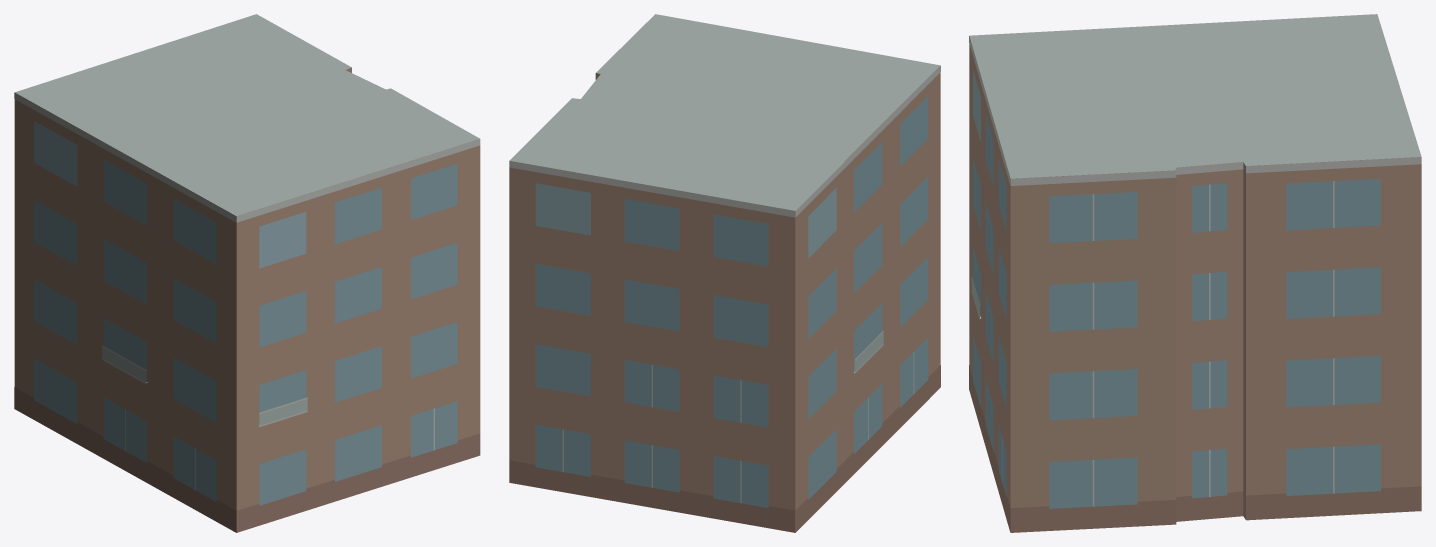
File: survey-upis-32532920.glb
The picture shows the model from 3 angles, left to right: view 1: azimuth 30°, elevation 25°; view 2: azimuth 150°, elevation 25°; view 3: azimuth 270°, elevation 25°; orthographic projection. The views are drawn at different scales.
Visible parts, largest first — view 1: survey-upis-32532920.tmp; view 2: survey-upis-32532920.tmp; view 3: survey-upis-32532920.tmp.
Part boxes in pixels (left/top/right/bottom): survey-upis-32532920.tmp: left=14, top=14, right=480, bottom=532; survey-upis-32532920.tmp: left=509, top=14, right=940, bottom=532; survey-upis-32532920.tmp: left=969, top=14, right=1421, bottom=532.
Bounding box in the file's own units: 11.73 × 11.75 × 13.61.
